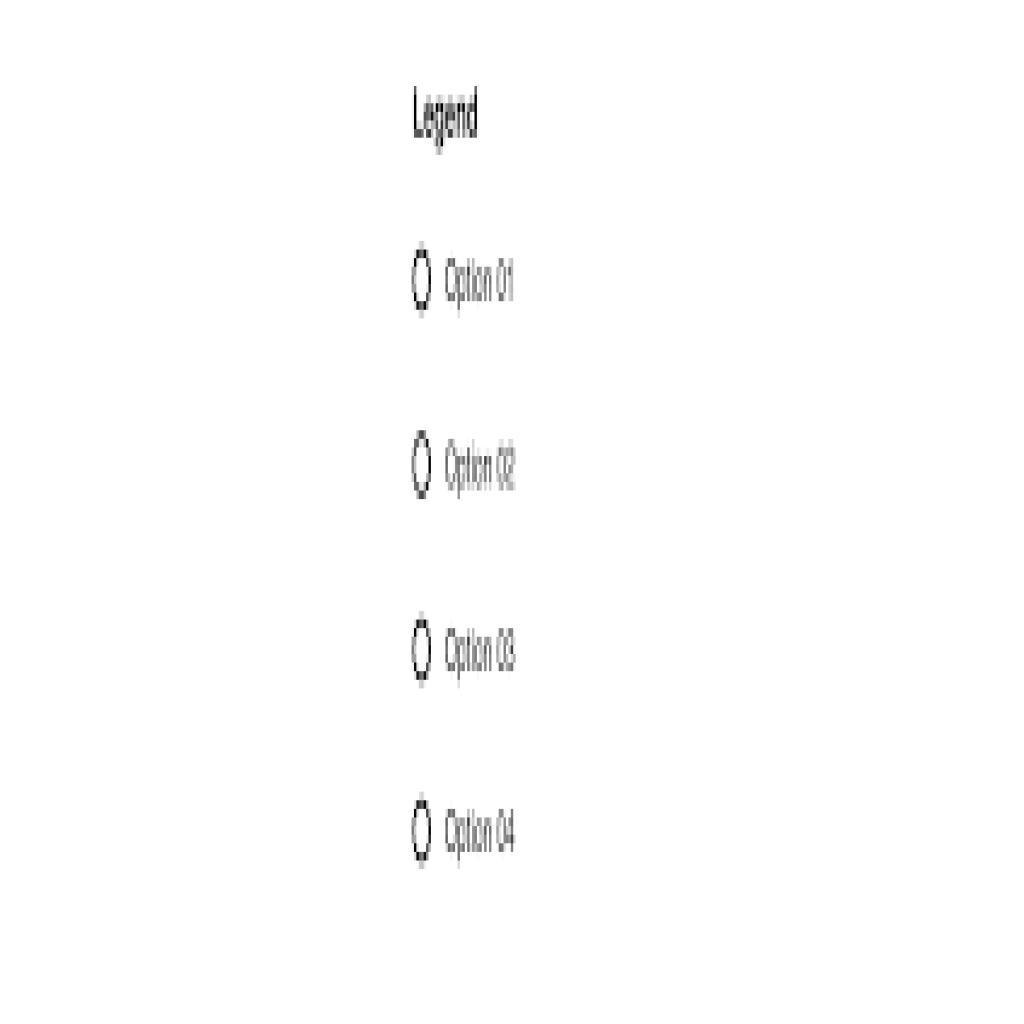label: (409, 76, 490, 150), (442, 440, 529, 500), (443, 802, 519, 861), (445, 626, 524, 681), (445, 250, 516, 311)
radio: (406, 429, 438, 500), (407, 610, 435, 690), (408, 796, 436, 871), (409, 239, 435, 318)
